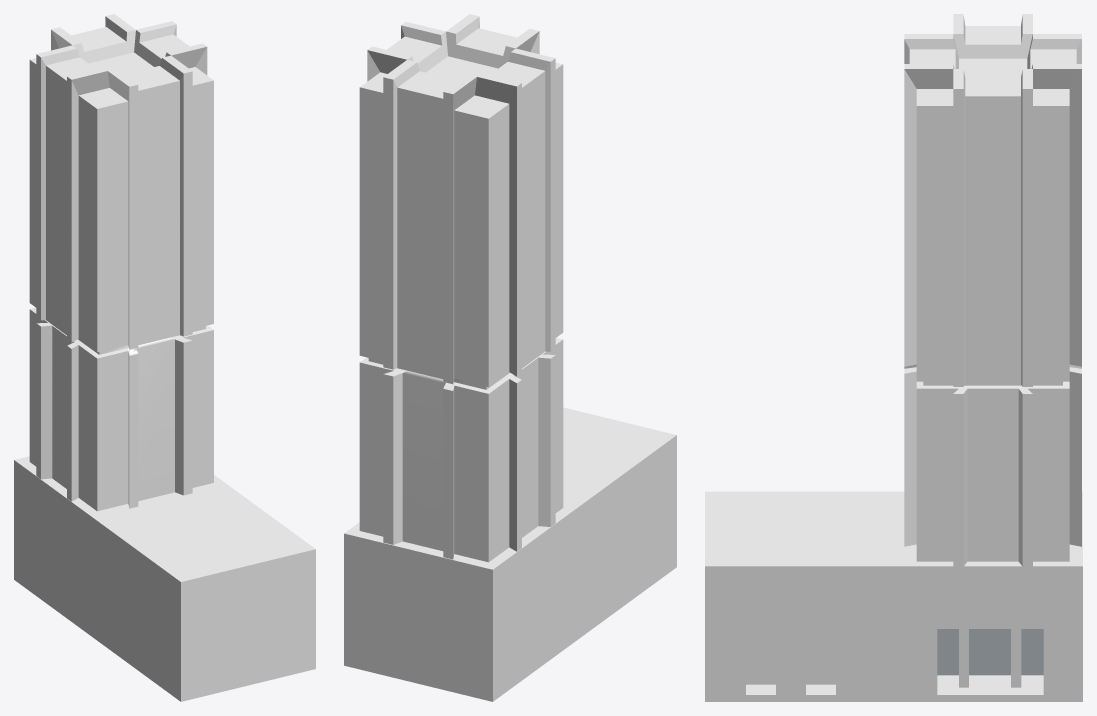
Rendered from fbx_building_4.fbx.
3 renders of one model, left to right at view 1: azimuth 30°, elevation 25°; view 2: azimuth 150°, elevation 25°; view 3: azimuth 270°, elevation 25°, orthographic. The views are drawn at different scales.
Visible parts, largest first — view 1: fbx_building_4; view 2: fbx_building_4; view 3: fbx_building_4.
Boxes of the visible parts, box(x1,y1,x2,y2) form: fbx_building_4: box(14, 14, 315, 701); fbx_building_4: box(344, 14, 676, 701); fbx_building_4: box(705, 14, 1082, 701).
Size of the model in its own units: 10.72 by 40.81 by 22.78.
2 materials, 1 textured.
